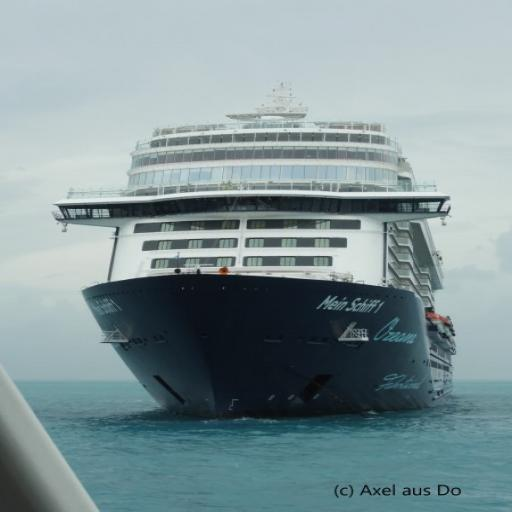cruises: (47, 84, 475, 424)
